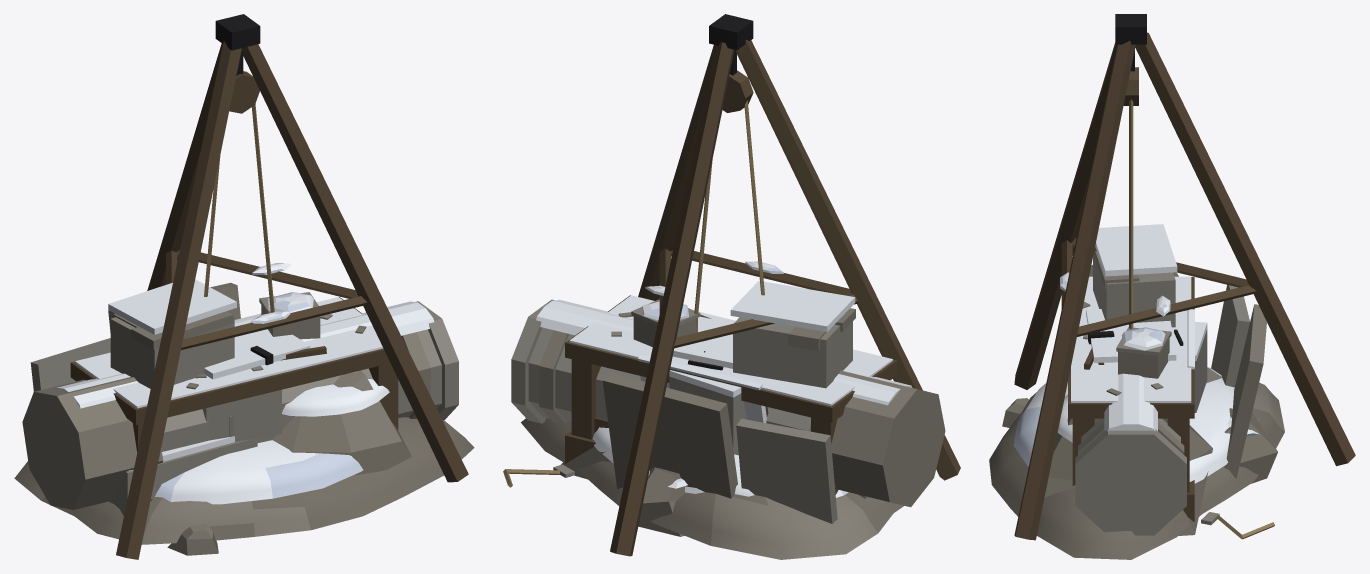
Rendered from fuellung_steinmetz.glb.
3 renders of one model, left to right at view 1: azimuth 30°, elevation 25°; view 2: azimuth 150°, elevation 25°; view 3: azimuth 270°, elevation 25°, orthographic. The views are drawn at different scales.
Visible parts, largest first — view 1: Dreibock, Saeulenrohling, Splitterhaufen, Werkbank, Werkbank_Winter, Splitterhaufen_Winter, BloeckeBehauen, Rohsteine, Dreibock_Winter, Saeulenrohling_Winter, Rohsteine_Winter, BloeckeBehauen_Winter; view 2: Dreibock, BloeckeBehauen, Saeulenrohling, Werkbank, Splitterhaufen, Werkbank_Winter, Saeulenrohling_Winter, Rohsteine, Dreibock_Winter, Werkzeugkiste_Winter, Splitterhaufen_Winter, BloeckeBehauen_Winter; view 3: Dreibock, Saeulenrohling, Splitterhaufen, Werkbank_Winter, Werkbank, BloeckeBehauen, Rohsteine, Splitterhaufen_Winter, Saeulenrohling_Winter, Dreibock_Winter, Rohsteine_Winter, Werkzeugkiste_Winter.
Part boxes in pixels (x1,y1,x2,y2): Dreibock: (116,14,468,559); Saeulenrohling: (22,301,458,509); Splitterhaufen: (14,417,474,544); Werkbank: (70,292,398,452); Werkbank_Winter: (75,279,383,408); Splitterhaufen_Winter: (155,440,363,504); BloeckeBehauen: (30,282,281,515); Rohsteine: (167,370,411,555); Dreibock_Winter: (204,263,310,379); Saeulenrohling_Winter: (56,301,434,408); Rohsteine_Winter: (282,379,389,416); BloeckeBehauen_Winter: (128,436,234,471); Dreibock: (503,14,960,556); BloeckeBehauen: (602,372,867,523); Saeulenrohling: (511,299,945,507); Werkbank: (565,295,897,494); Splitterhaufen: (521,418,904,559); Werkbank_Winter: (569,280,892,405); Saeulenrohling_Winter: (536,299,912,405); Rohsteine: (561,446,738,536); Dreibock_Winter: (645,261,783,368); Werkzeugkiste_Winter: (638,354,766,422); Splitterhaufen_Winter: (592,427,848,497); BloeckeBehauen_Winter: (669,370,741,397); Dreibock: (1014,14,1355,540); Saeulenrohling: (1075,265,1219,535); Splitterhaufen: (989,382,1284,559); Werkbank_Winter: (1071,224,1191,402); Werkbank: (1068,251,1194,492); BloeckeBehauen: (1194,284,1266,478); Rohsteine: (1002,367,1277,535); Splitterhaufen_Winter: (1013,367,1234,483); Saeulenrohling_Winter: (1104,373,1157,431); Dreibock_Winter: (1060,272,1176,362); Rohsteine_Winter: (1057,394,1259,442); Werkzeugkiste_Winter: (1187,309,1194,369).
Size of the model in its own units: 2.8 by 3.11 by 2.32.
